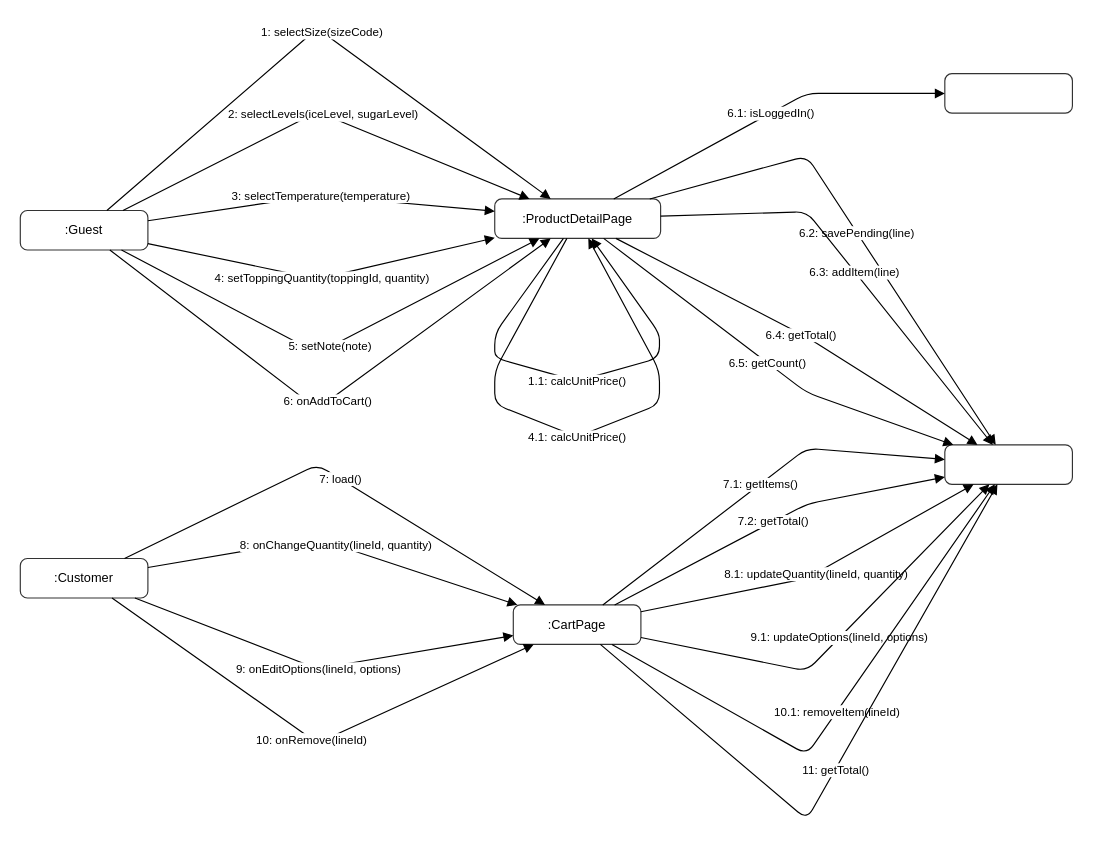
Some shapes in this 1093 by 849 pixel diagram are drawn without their labels. The centre of each missing label's shape, as x and y in pixels:
:AuthStore: point 1008,92
:CartStore: point 1008,464
